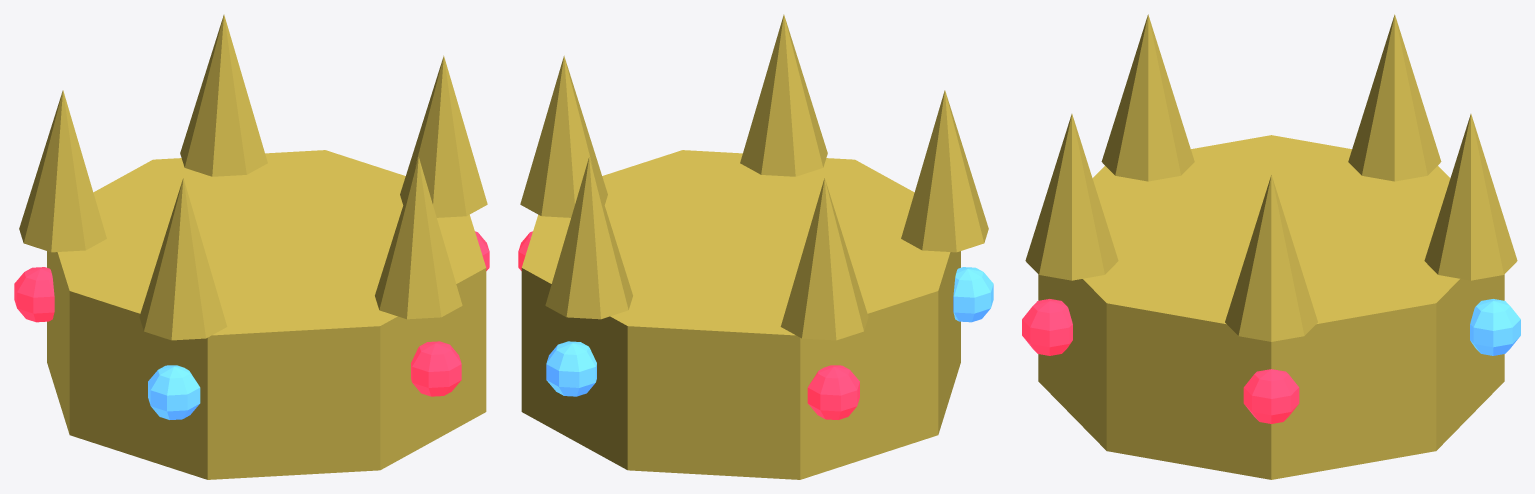
File: artifact_crown.glb
The picture shows the model from 3 angles, left to right: view 1: azimuth 30°, elevation 25°; view 2: azimuth 150°, elevation 25°; view 3: azimuth 270°, elevation 25°; orthographic projection. The views are drawn at different scales.
Visible parts, largest first — view 1: artifact_crown; view 2: artifact_crown; view 3: artifact_crown.
Boxes of the visible parts, x1,y1,x2,y2 form: artifact_crown: (14, 14, 489, 479); artifact_crown: (518, 14, 993, 479); artifact_crown: (1022, 14, 1520, 479).
Size of the model in its own units: 0.2119 by 0.14 by 0.214.
